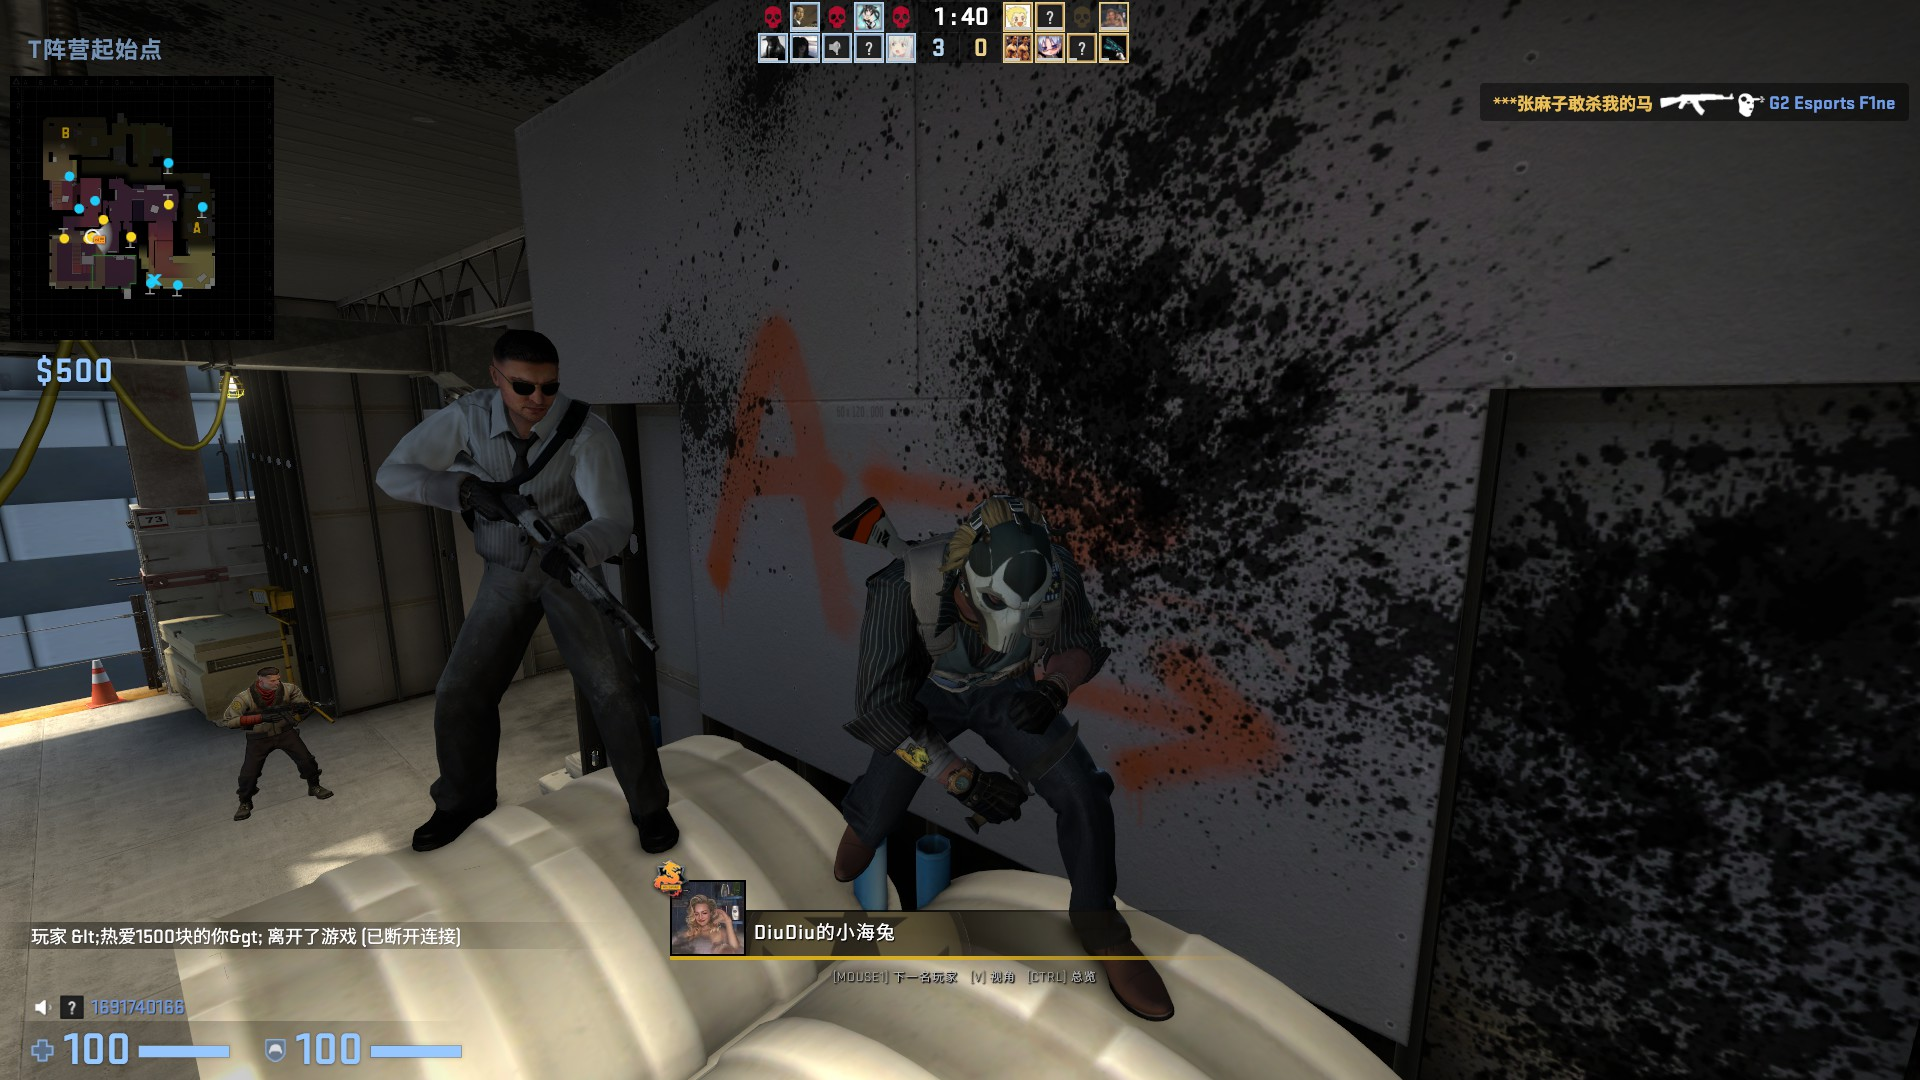head: (957, 511, 1056, 657), (486, 327, 558, 422), (254, 667, 282, 690)
